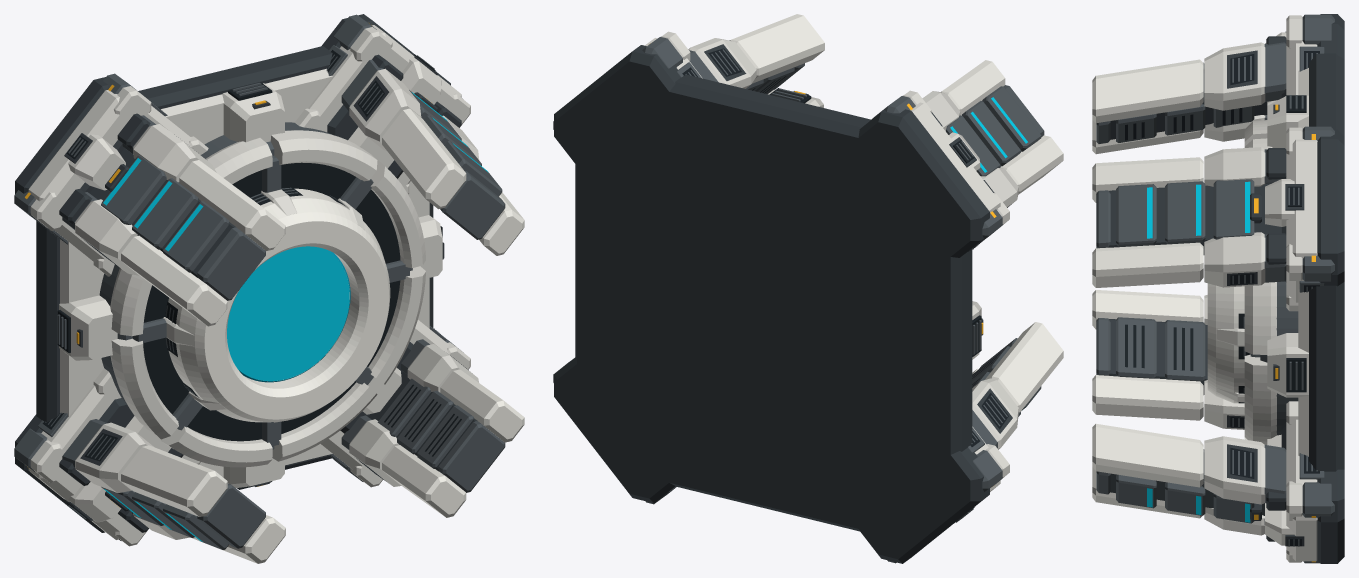
File: shield_base.obj
3 renders of one model, left to right at view 1: azimuth 30°, elevation 25°; view 2: azimuth 150°, elevation 25°; view 3: azimuth 270°, elevation 25°, orthographic. The views are drawn at different scales.
Visible parts, largest first — view 1: engine_core, well_surface, foundation, annular_channel, foundation_shoulder, pylon0_long_cheek, pylon1_long_cheek, pylon3_long_cheek, pylon2_long_cheek, pylon0_sculpted_foot, pylon0_flared_hip, pylon2_flared_hip (+54 smaller); view 2: foundation, pylon1_lower_plinth, pylon0_lower_plinth, pylon3_lower_plinth, pylon3_long_cheek, pylon0_long_cheek, pylon1_long_cheek, pylon2_lower_plinth, pylon0_sculpted_foot, pylon0_flared_hip, pylon0_emitter_slab_2, pylon0_emitter_slab_1 (+6 smaller); view 3: foundation, pylon1_long_cheek, pylon3_long_cheek, pylon0_long_cheek, pylon2_long_cheek, pylon3_flared_hip, pylon3_lower_plinth, engine_core, pylon2_flared_hip, pylon0_flared_hip, pylon3_sculpted_foot, outer_armor_7 (+51 smaller).
Boxes of the visible parts, bbox=[...] form: engine_core: bbox=[168, 188, 390, 422]; well_surface: bbox=[227, 246, 349, 381]; foundation: bbox=[36, 46, 433, 469]; annular_channel: bbox=[143, 162, 400, 441]; foundation_shoulder: bbox=[60, 68, 429, 477]; pylon0_long_cheek: bbox=[121, 160, 285, 326]; pylon1_long_cheek: bbox=[121, 445, 285, 563]; pylon3_long_cheek: bbox=[382, 108, 524, 255]; pylon2_long_cheek: bbox=[382, 369, 524, 517]; pylon0_sculpted_foot: bbox=[28, 90, 191, 265]; pylon0_flared_hip: bbox=[75, 124, 216, 275]; pylon2_flared_hip: bbox=[349, 344, 478, 486]; foundation: bbox=[575, 74, 972, 531]; pylon1_lower_plinth: bbox=[815, 395, 989, 563]; pylon0_lower_plinth: bbox=[815, 109, 989, 291]; pylon3_lower_plinth: bbox=[554, 45, 712, 224]; pylon3_long_cheek: bbox=[730, 14, 824, 83]; pylon0_long_cheek: bbox=[941, 60, 1063, 194]; pylon1_long_cheek: bbox=[972, 322, 1063, 412]; pylon2_lower_plinth: bbox=[554, 339, 675, 503]; pylon0_sculpted_foot: bbox=[910, 102, 1000, 212]; pylon0_flared_hip: bbox=[922, 91, 1018, 207]; pylon0_emitter_slab_2: bbox=[982, 86, 1041, 151]; pylon0_emitter_slab_1: bbox=[962, 101, 1020, 166]; foundation: bbox=[1309, 53, 1344, 471]; pylon1_long_cheek: bbox=[1092, 290, 1203, 420]; pylon3_long_cheek: bbox=[1092, 157, 1203, 287]; pylon0_long_cheek: bbox=[1092, 59, 1203, 154]; pylon2_long_cheek: bbox=[1092, 423, 1203, 518]; pylon3_flared_hip: bbox=[1204, 147, 1265, 287]; pylon3_lower_plinth: bbox=[1317, 129, 1344, 286]; engine_core: bbox=[1207, 283, 1244, 403]; pylon2_flared_hip: bbox=[1204, 436, 1265, 535]; pylon0_flared_hip: bbox=[1204, 42, 1265, 141]; pylon3_sculpted_foot: bbox=[1286, 138, 1317, 302]; outer_armor_7: bbox=[1244, 354, 1276, 444].
Bounding box in the file's own units: 4.01 × 4.01 × 2.12.
